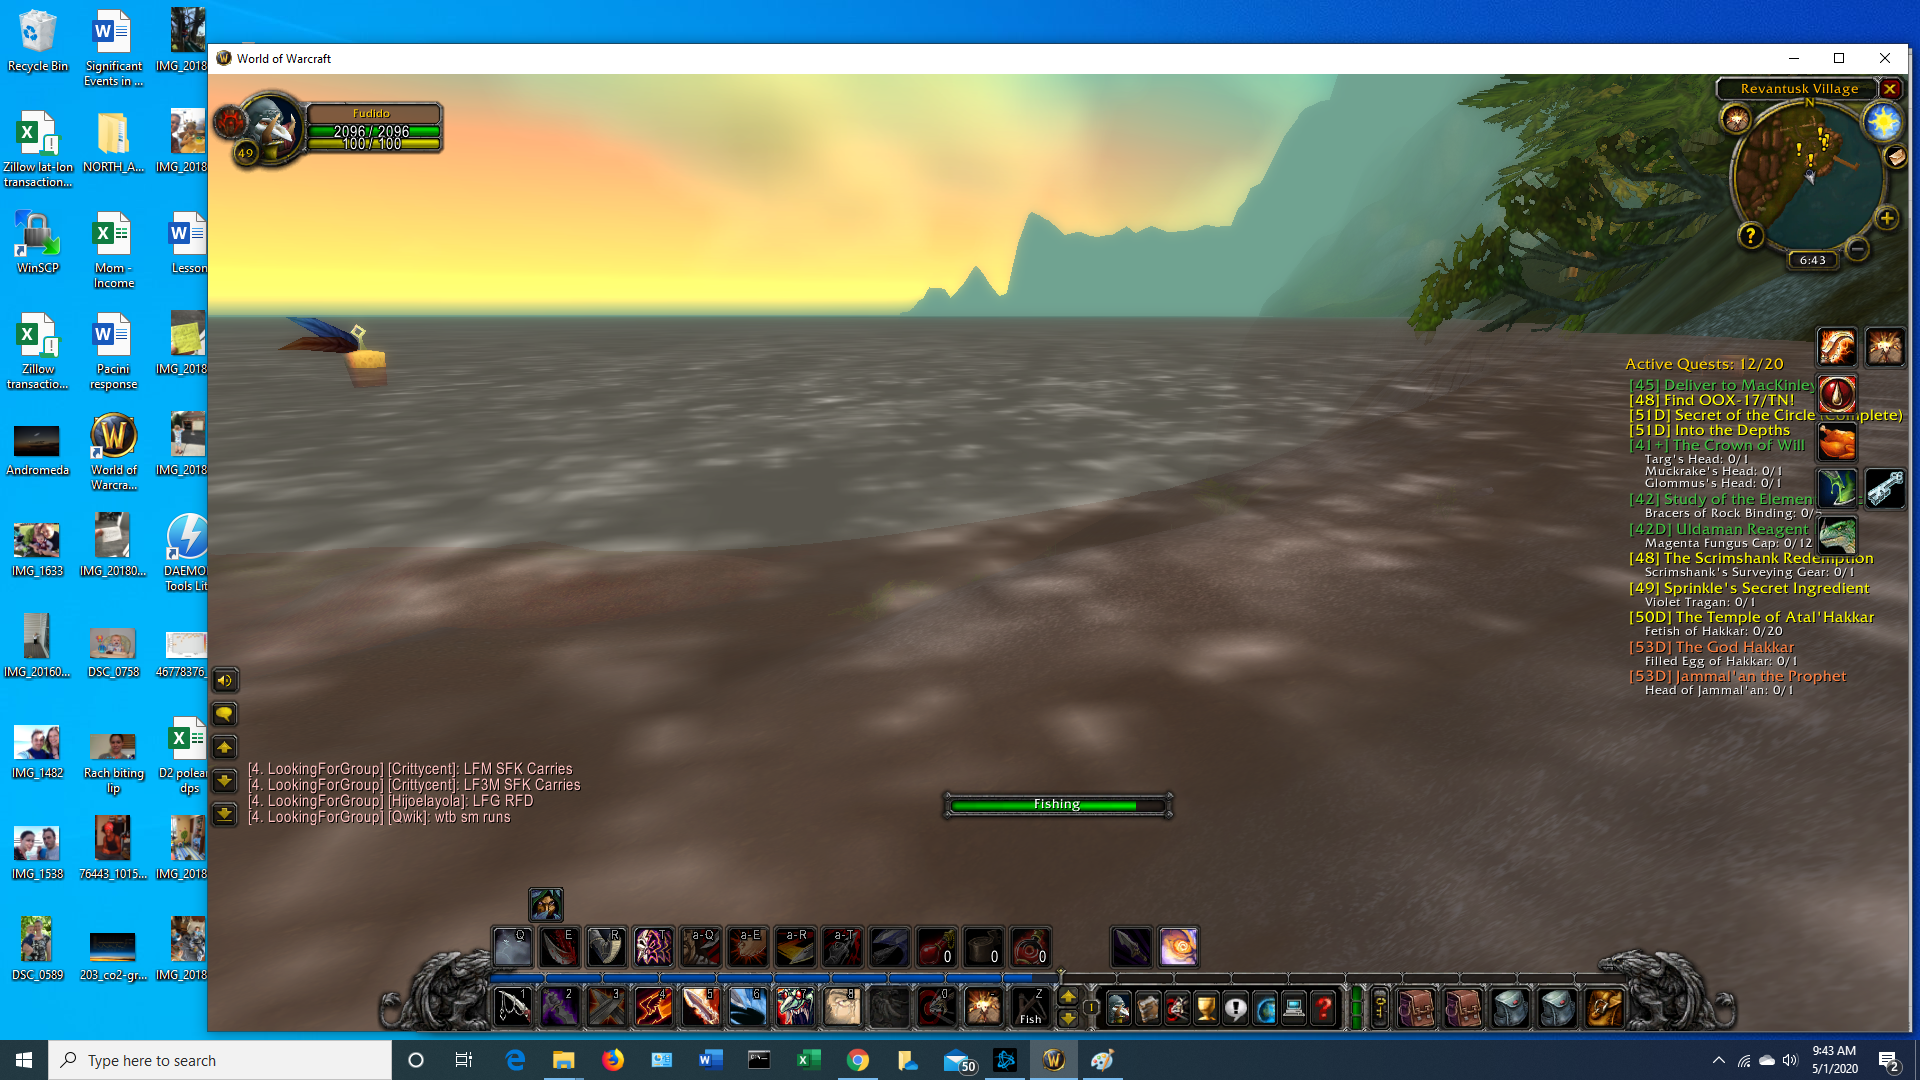bobble: (274, 310, 396, 400)
